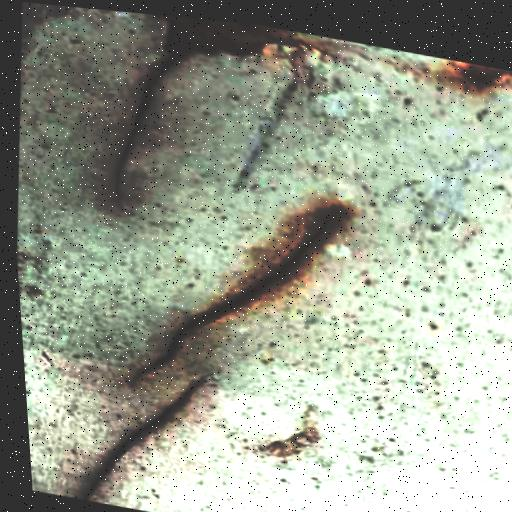corrosion: (118, 184, 368, 397), (67, 365, 217, 506)
